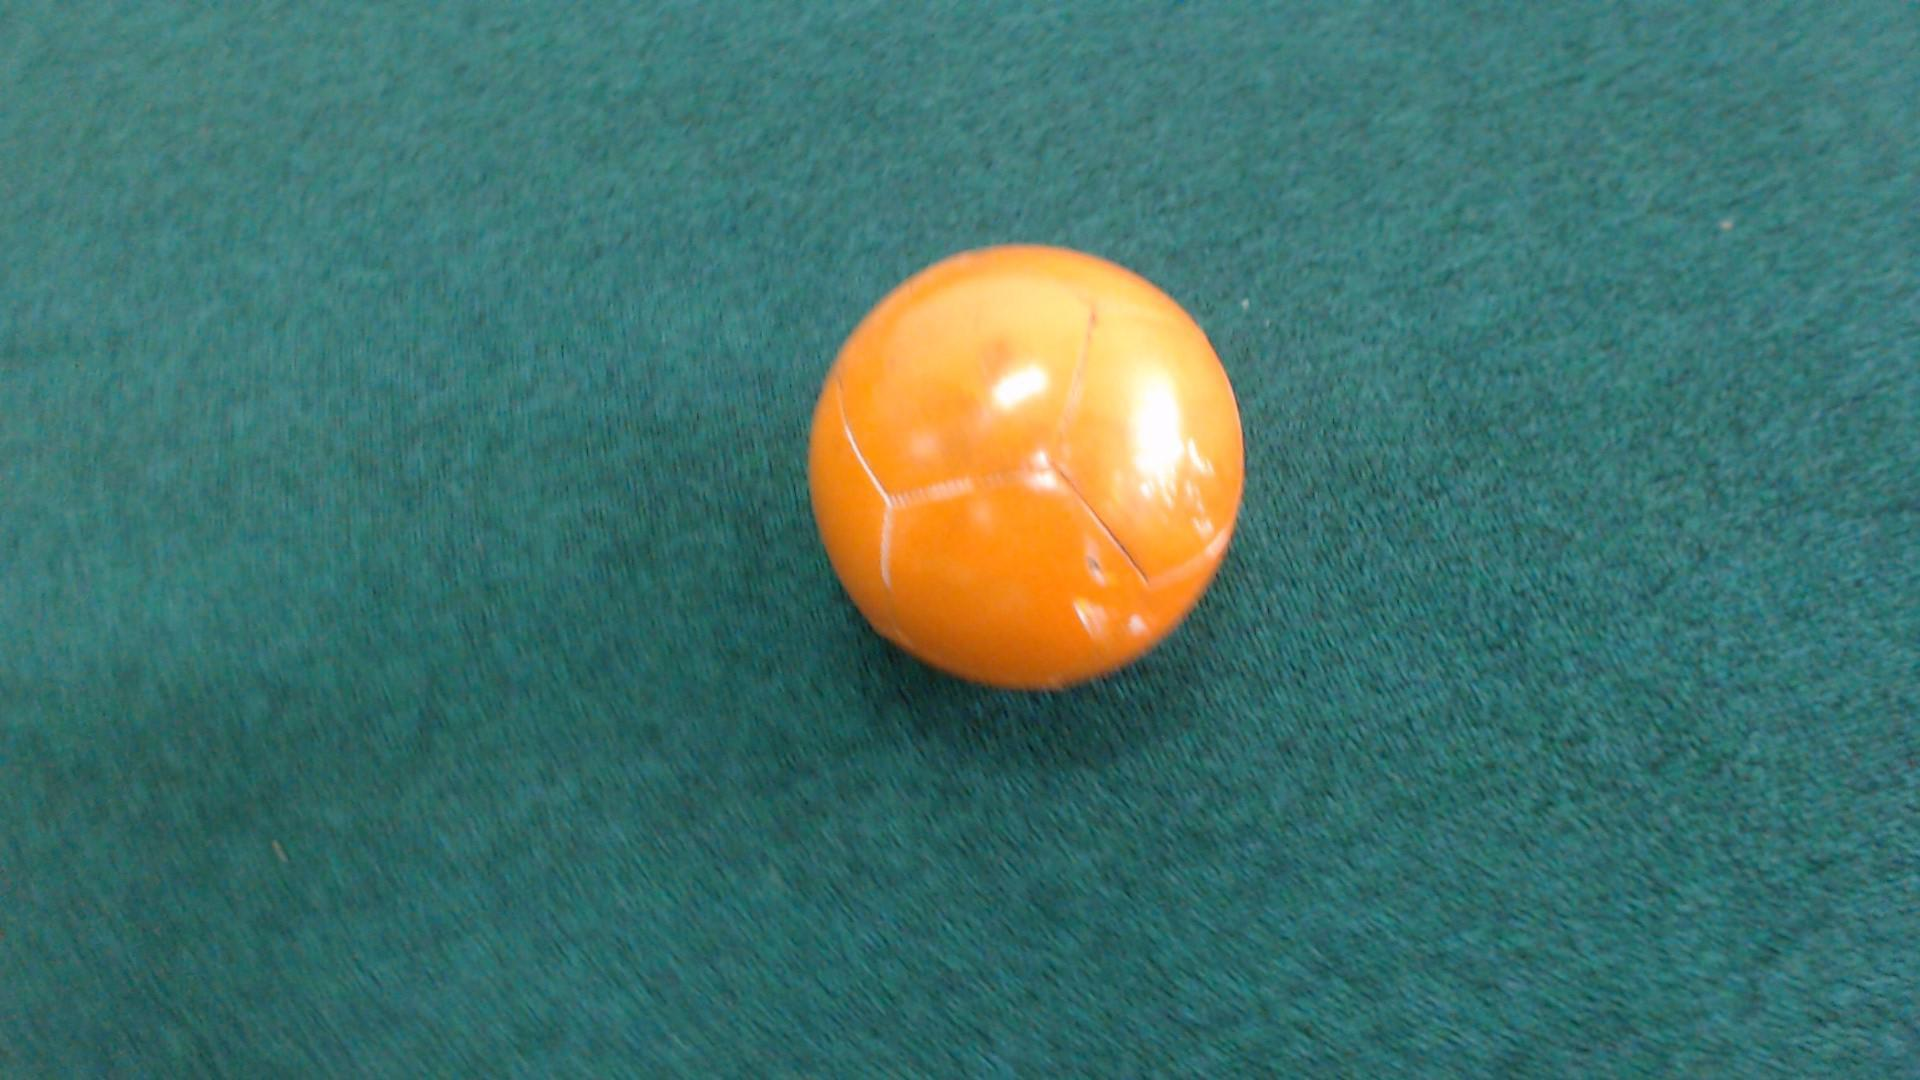bola: (782, 189, 1251, 719)
